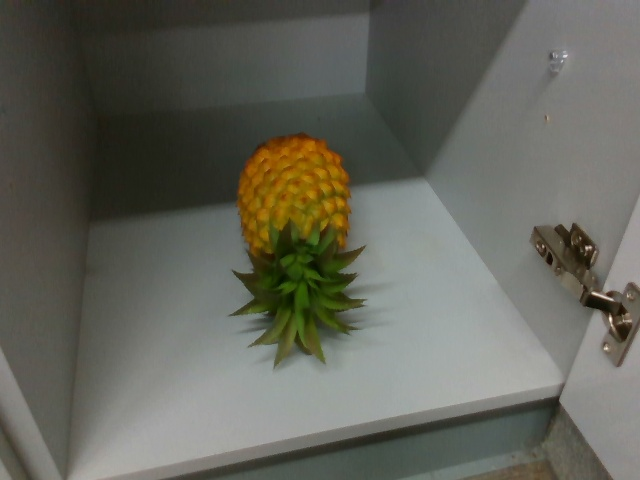pineapple: (232, 132, 367, 367)
